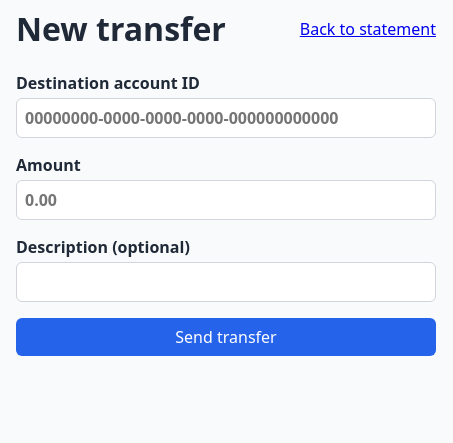
Test: TransferPage › surfaces other API errors
This screenshot has width=453, height=443.
Type "11111111-1111-4111-8111-111111111111" into the field labelled "Destination account ID".
click(226, 118); type("11111111-1111-4111-8111-111111111111")  # box [16,98,436,138]
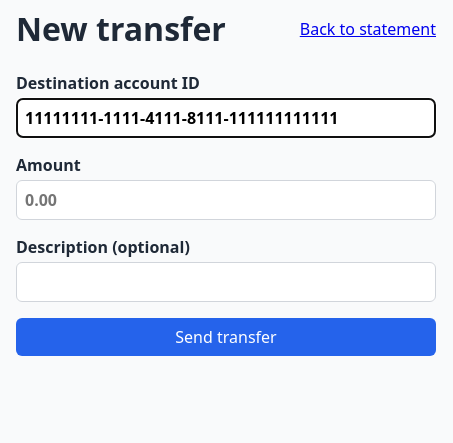
Type "5" into the field labelled "Amount".
click(226, 200); type("5")  # box [16,180,436,220]
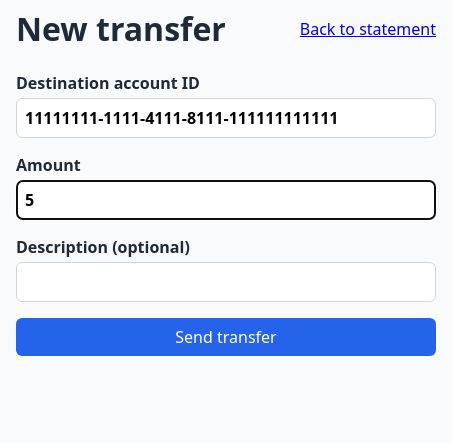
Click the button "Send transfer".
click(226, 337)  # box [16,318,436,356]
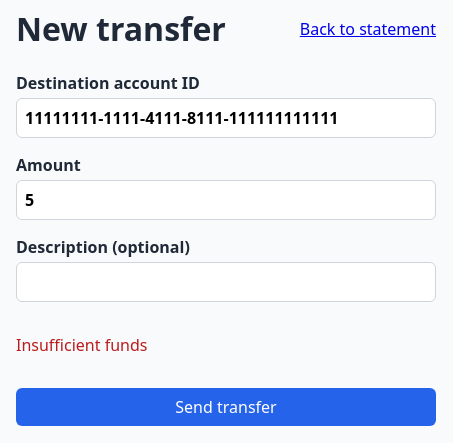
Result: the message reads "Insufficient funds" at [16,334,148,356]
